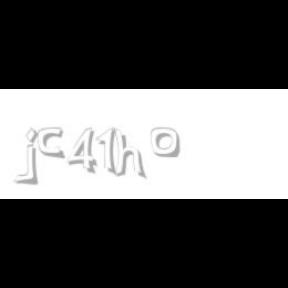1: (95, 128, 117, 176)
4: (66, 128, 97, 174)
c: (37, 128, 66, 160)
h: (114, 128, 148, 180)
j: (24, 128, 53, 186)
o: (150, 128, 180, 158)
